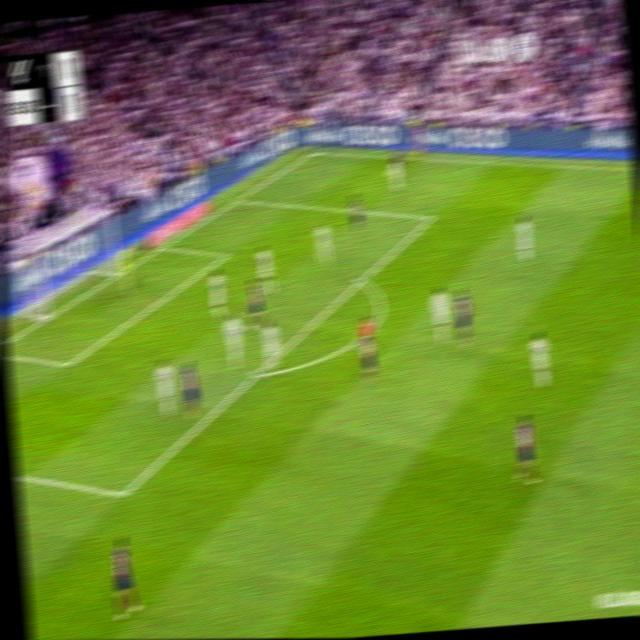bigarea_bottom_inner: (114, 479, 131, 506)
bigarea_top_inner: (423, 207, 436, 226)
bigarea_top_outter: (231, 190, 244, 205)
bottom_arc_area_intersection: (248, 361, 265, 384)
corner: (305, 145, 319, 157)
smallarea_bottom_inner: (60, 352, 75, 374)
smallarea_top_inner: (219, 247, 231, 263)
top_arc_area_intersection: (354, 270, 367, 287)
